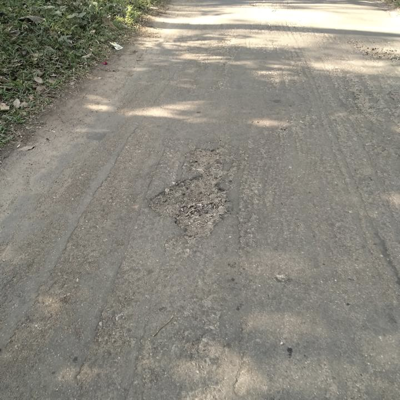pothole: (147, 147, 235, 242), (347, 38, 400, 65)
